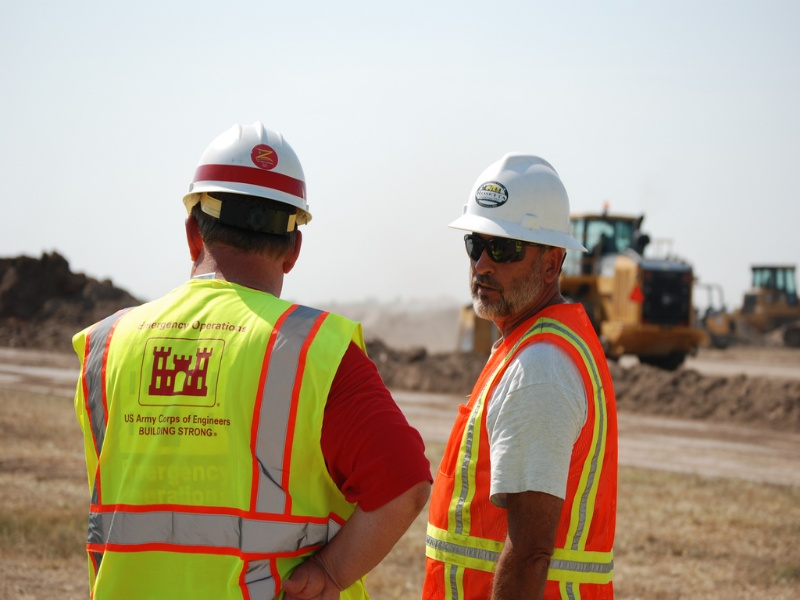helmet: (185, 120, 314, 224), (454, 156, 578, 250)
jacket: (90, 286, 331, 599), (430, 311, 612, 595)
